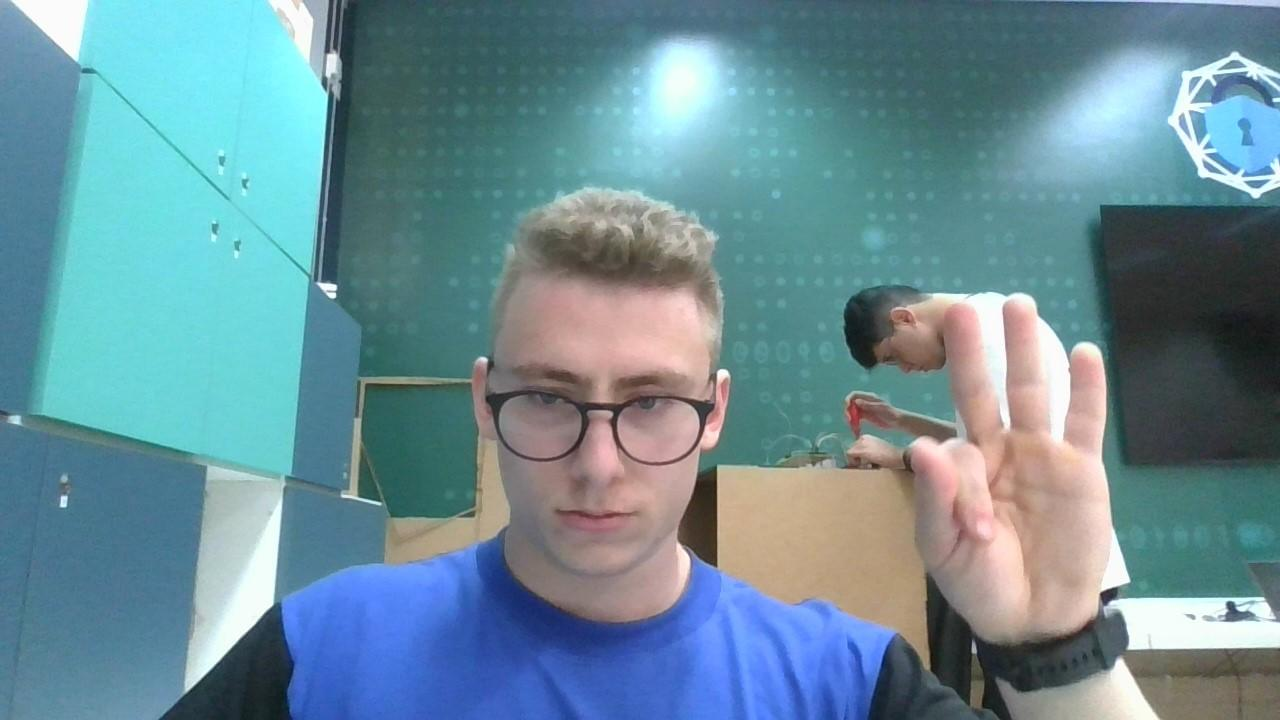F: (906, 296, 1118, 638)
